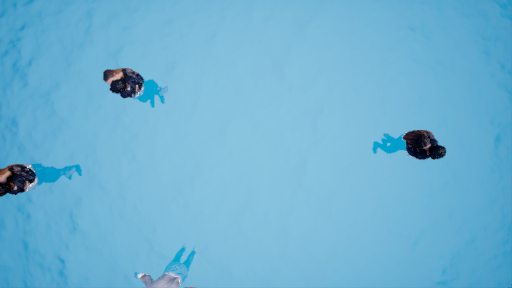person: (3, 162, 85, 199), (102, 70, 176, 110), (367, 132, 450, 167), (140, 250, 206, 288)
